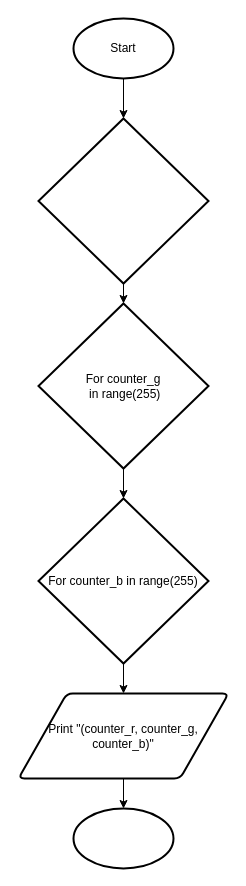
The diagram is 246 pixels wide and 886 high, and some of its shapes have lost their labels. The shapes that lost their labels are listed below. From the top down, each one's centre as x and y in pixels, then its label:
At point (123, 200): "For counter_r in range(255)".
At point (123, 838): "Stop".
